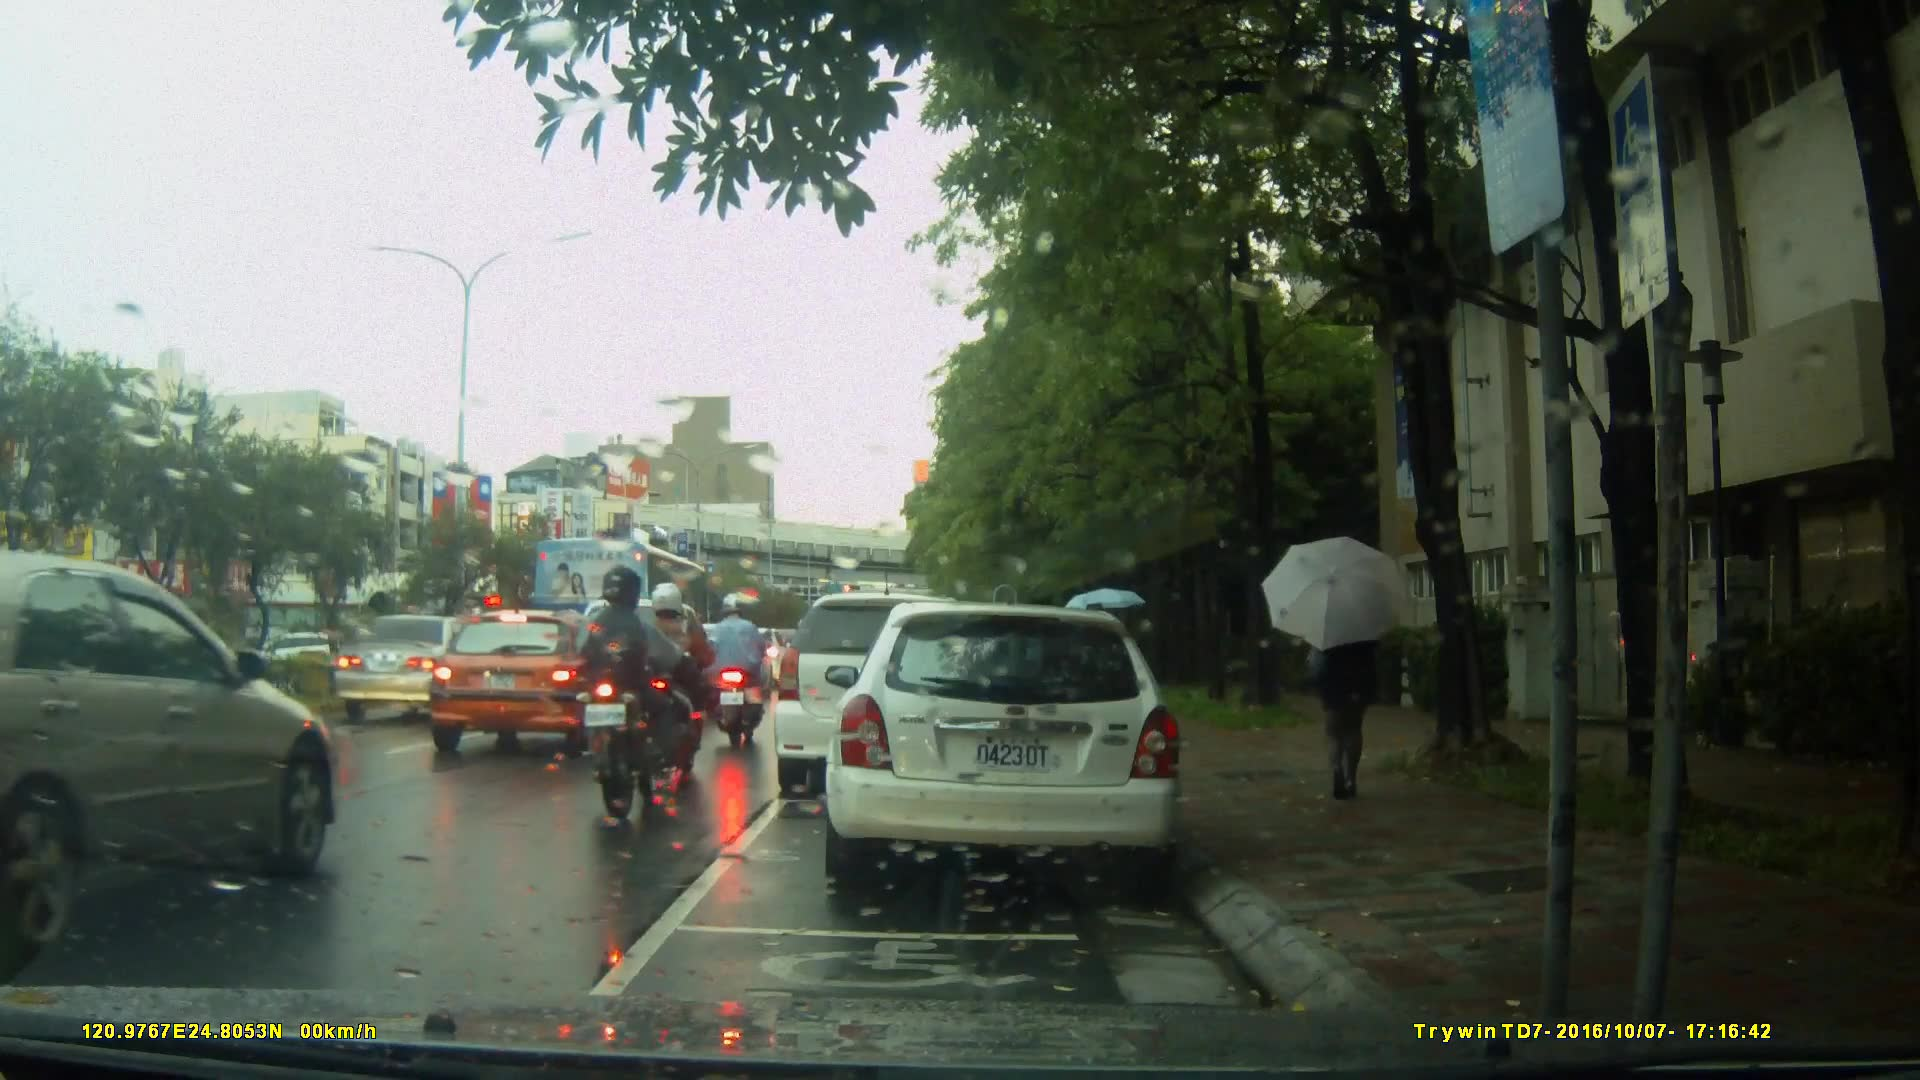pedestrian: (1286, 549, 1405, 805), (1081, 589, 1109, 739)
rider: (574, 573, 694, 816), (637, 578, 710, 787), (696, 586, 770, 753)
vehicle: (3, 557, 339, 958), (835, 594, 1194, 898), (776, 590, 1026, 784), (422, 608, 639, 761), (530, 533, 718, 670), (329, 614, 512, 727)
